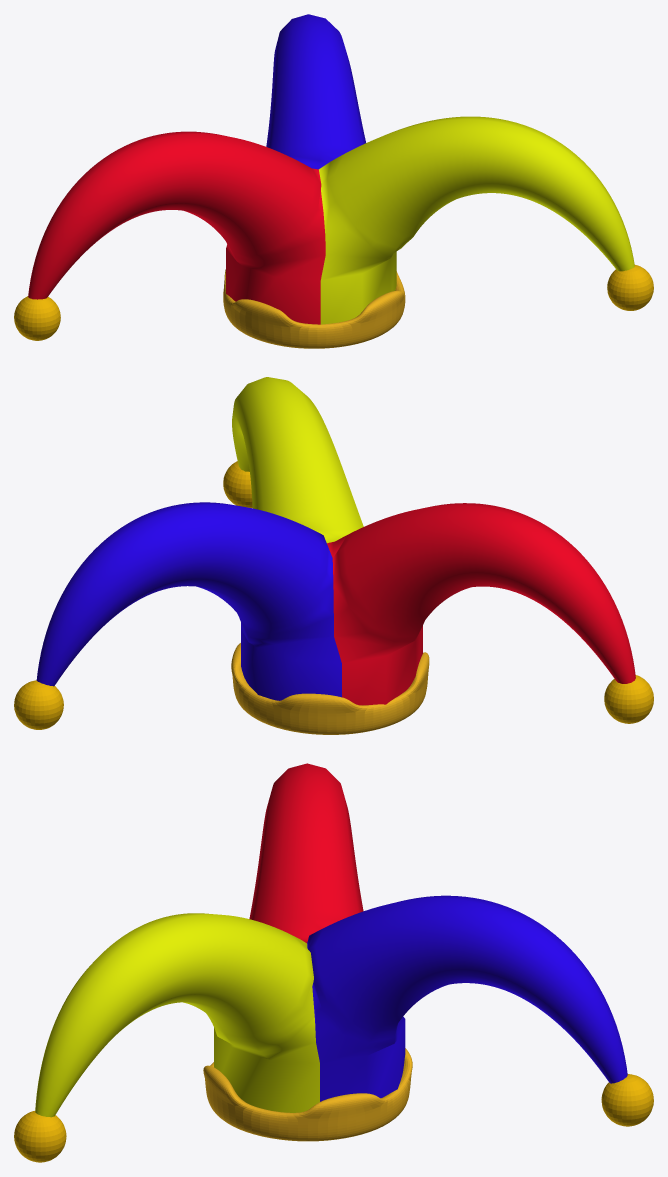
Rendered from hat.fbx.
The picture shows the model from 3 angles, top to bottom: view 1: azimuth 30°, elevation 25°; view 2: azimuth 150°, elevation 25°; view 3: azimuth 270°, elevation 25°; orthographic projection. The views are drawn at different scales.
Visible parts, largest first — view 1: NurbsPath, Cylinder, Sphere, Sphere.002; view 2: NurbsPath, Cylinder, Sphere.001, Sphere, Sphere.002; view 3: NurbsPath, Cylinder, Sphere.001, Sphere.002.
Boxes of the visible parts, bbox=[...] form: NurbsPath: bbox=[28, 14, 634, 324]; Cylinder: bbox=[223, 269, 405, 348]; Sphere: bbox=[14, 296, 60, 340]; Sphere.002: bbox=[607, 265, 653, 310]; NurbsPath: bbox=[36, 377, 635, 705]; Cylinder: bbox=[231, 643, 429, 734]; Sphere.001: bbox=[14, 680, 63, 729]; Sphere: bbox=[604, 675, 653, 723]; Sphere.002: bbox=[223, 461, 252, 508]; NurbsPath: bbox=[35, 763, 627, 1117]; Cylinder: bbox=[203, 1048, 412, 1141]; Sphere.001: bbox=[601, 1074, 653, 1126]; Sphere.002: bbox=[14, 1111, 66, 1162].
Size of the model in its own units: 859 by 338 by 824.
